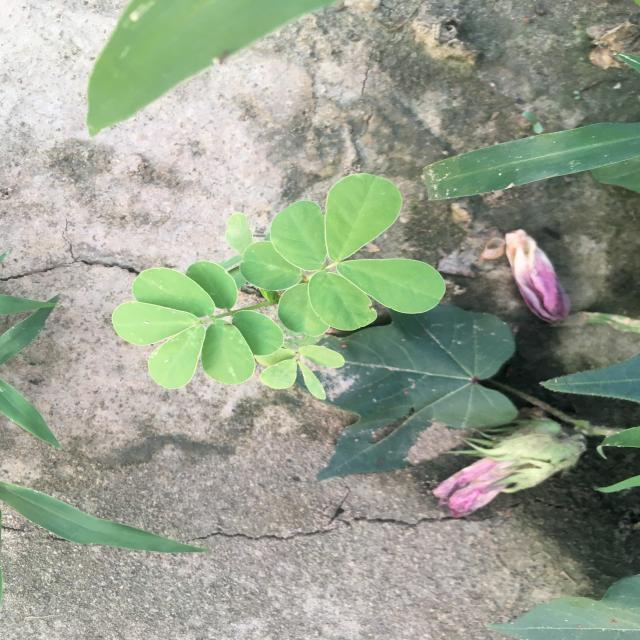Sicklepod: (110, 171, 448, 402)
